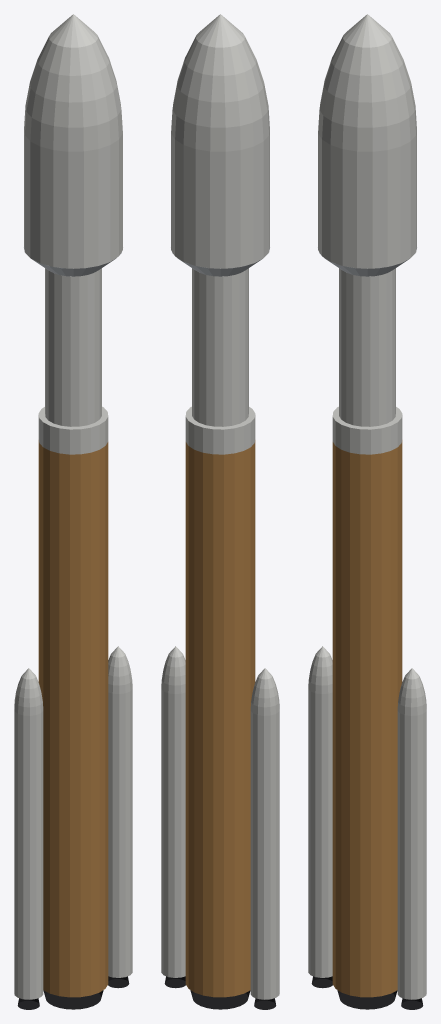
The model's file is rocket-atlas-v.glb.
3 renders of one model, left to right at view 1: azimuth 30°, elevation 25°; view 2: azimuth 150°, elevation 25°; view 3: azimuth 330°, elevation 25°, orthographic.
Size of the model in its own units: 7.16 by 58.9 by 5.4.
